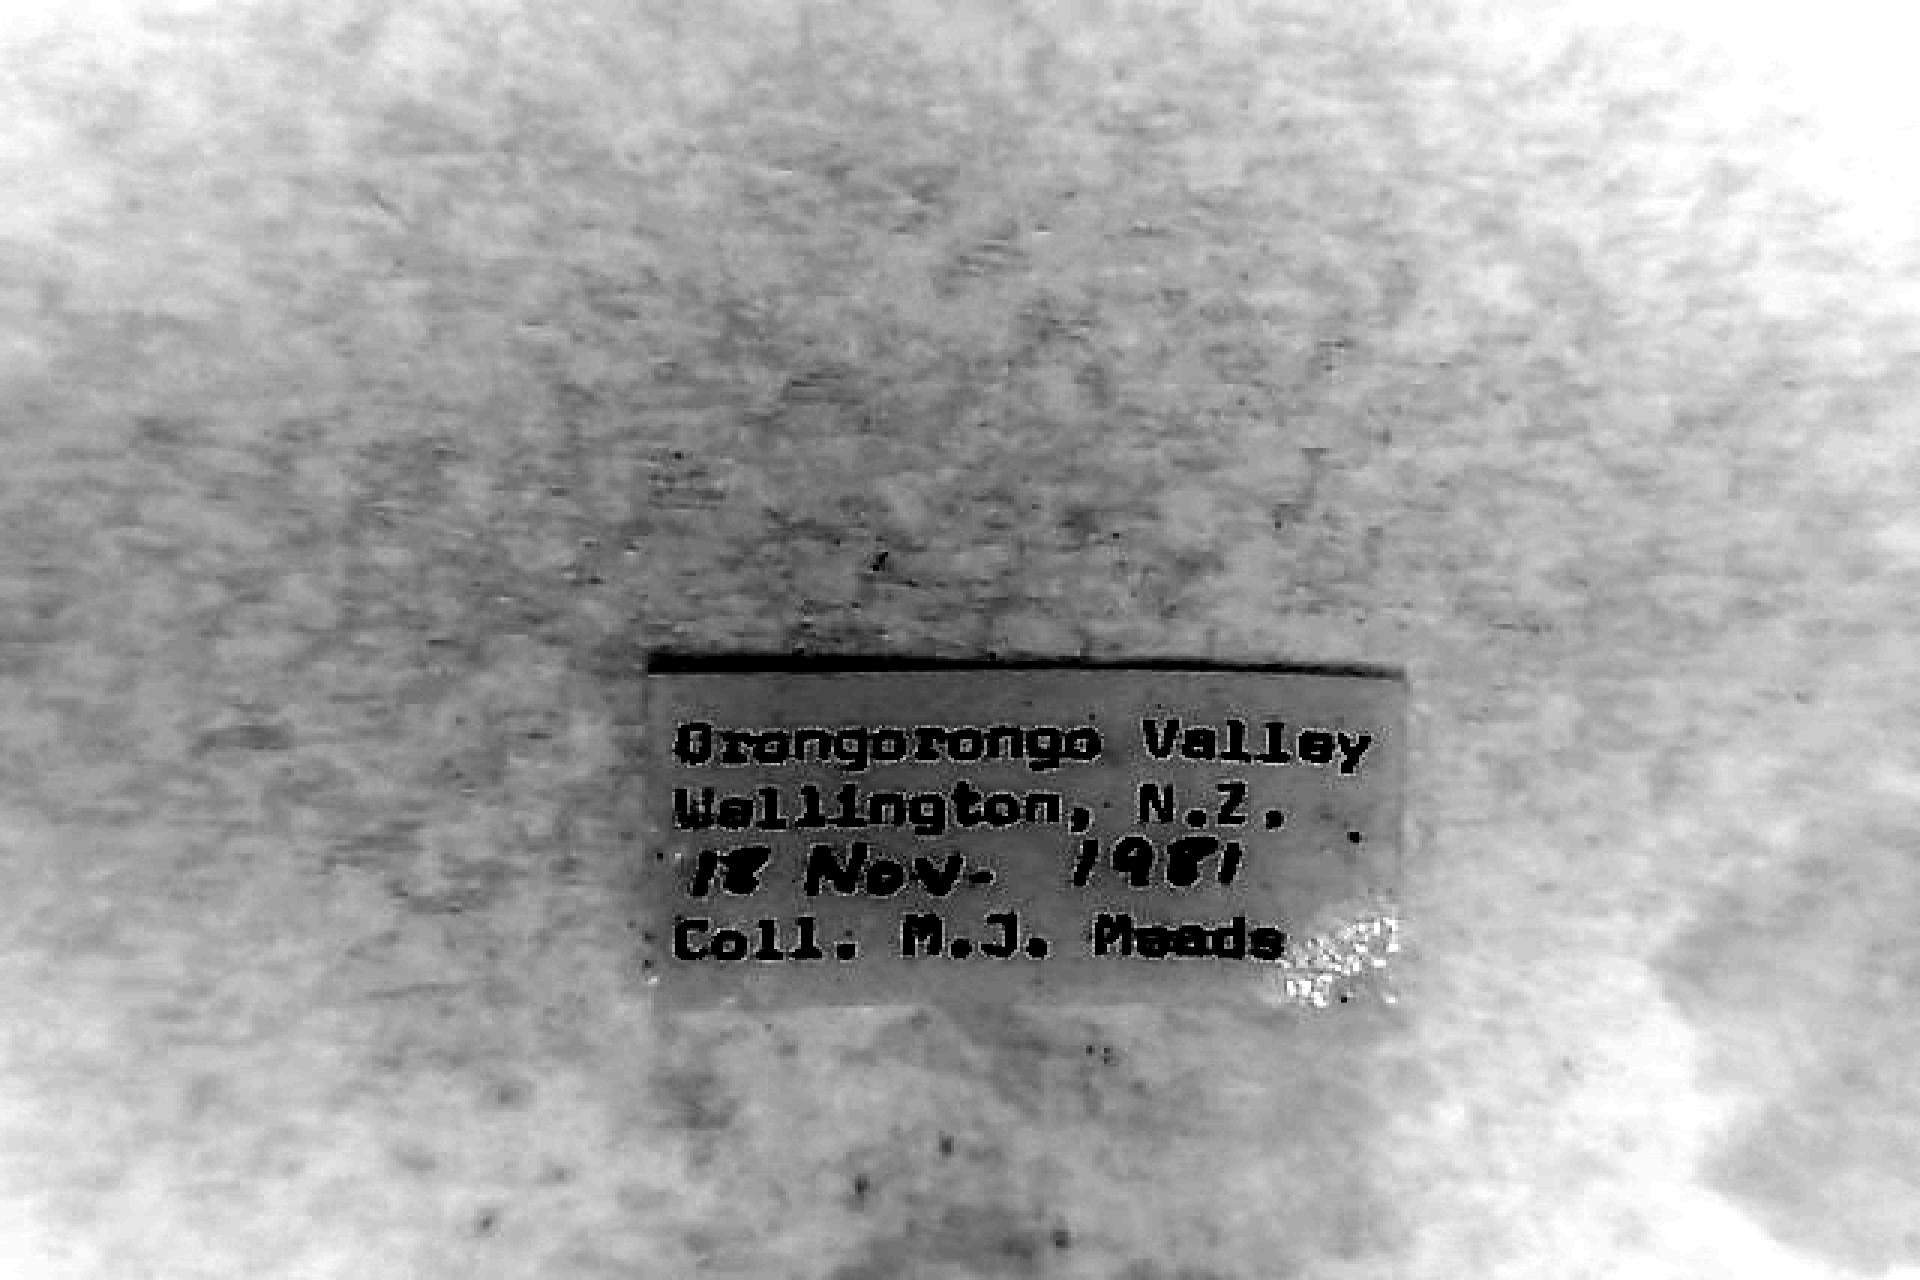mixed_label: (649, 667, 1403, 1003)
